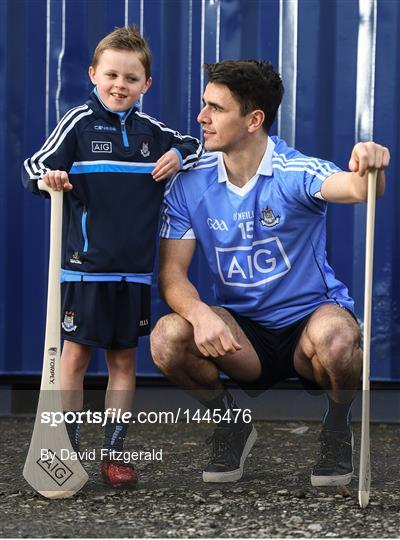player: (161, 47, 364, 482), (52, 28, 148, 473)
